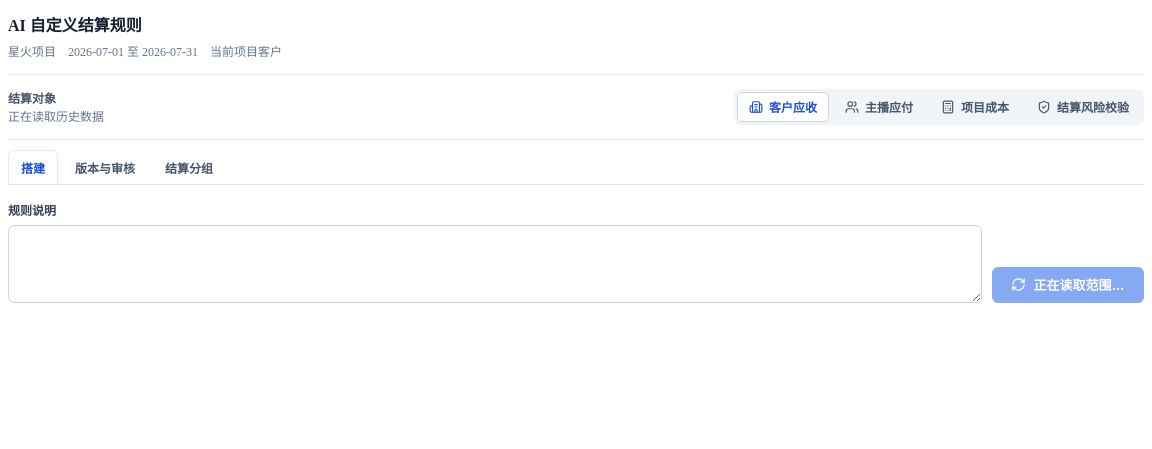
Scenario: CustomSettlementRuleWorkspace › loads normalized import fields when authoring project-cost rules
What coordinates should you click on to do the following:
click the button "项目成本"
I would click on:
 (975, 107)
Its box is [929, 92, 1021, 122].
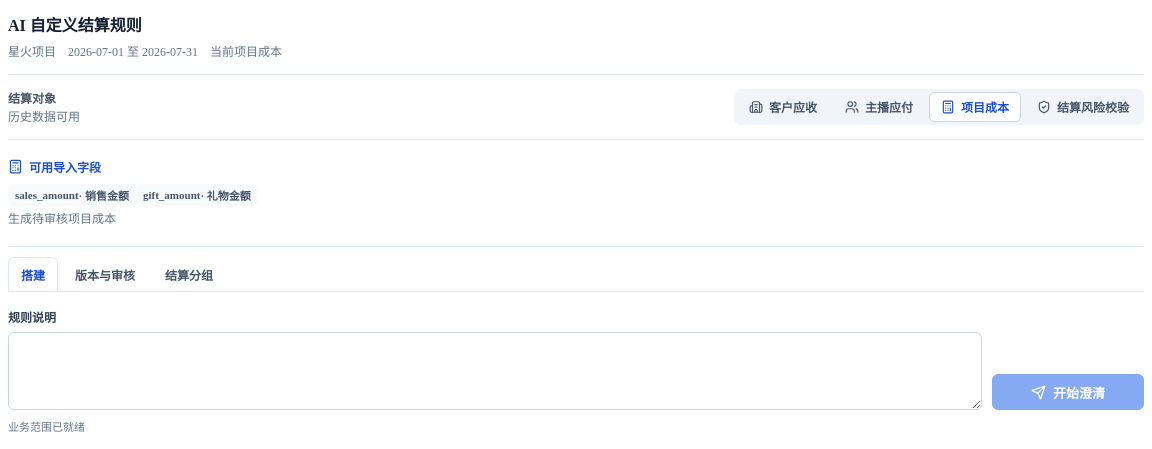
Result: the text "可用导入字段" is shown at [8, 158, 101, 176]
Result: the text "sales_amount" is shown at [15, 189, 79, 201]
Result: the text "gift_amount" is shown at [143, 189, 200, 201]
